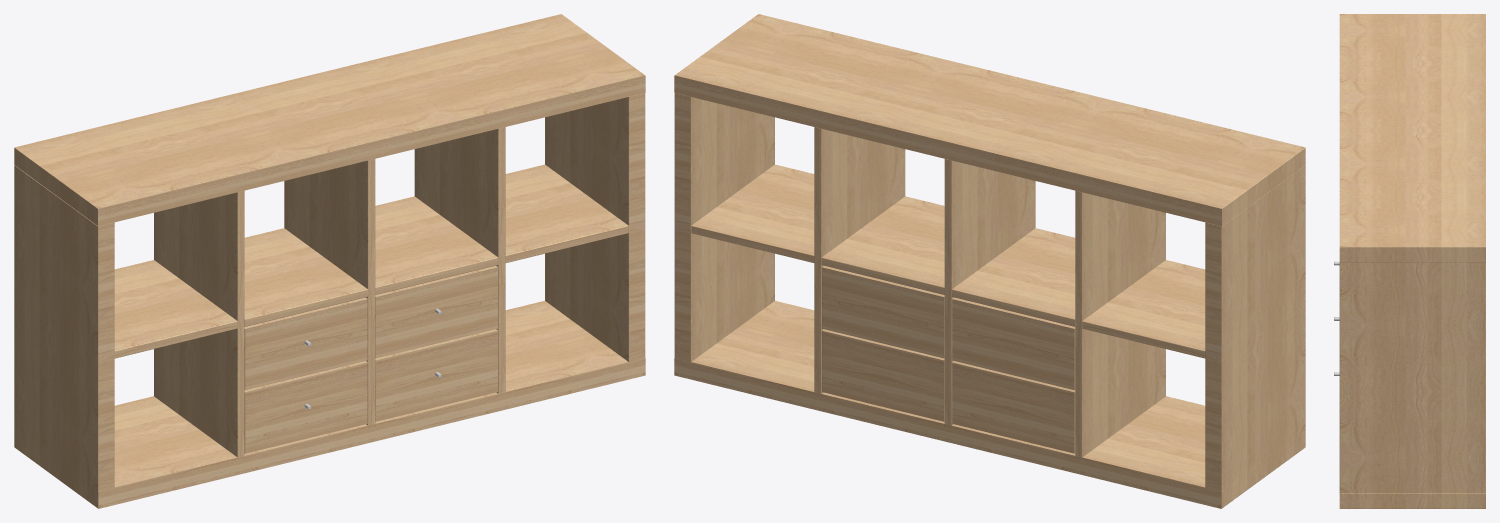
Rendered from KALLAX_Shelf_with_2_Accessories_Whitened_Oak_effect_77x147.obj.
3 renders of one model, left to right at view 1: azimuth 30°, elevation 25°; view 2: azimuth 150°, elevation 25°; view 3: azimuth 270°, elevation 25°, orthographic. The views are drawn at different scales.
Visible parts, largest first — view 1: Rectangle001, Rectangle002, Rectangle004, Rectangle003, Rectangle017, Rectangle016, Rectangle018, Rectangle006, Rectangle009, Rectangle019, Rectangle022, Rectangle005 (+3 smaller); view 2: Rectangle001, Rectangle002, Rectangle004, Rectangle003, Rectangle017, Rectangle016, Rectangle018, Rectangle006, Rectangle009, Rectangle019, Rectangle022, Rectangle005 (+3 smaller); view 3: Rectangle001, Rectangle003, Rectangle004.
Boxes of the visible parts, <box> form: Rectangle001: <box>14,14,645,226</box>; Rectangle002: <box>14,165,114,491</box>; Rectangle004: <box>14,300,645,508</box>; Rectangle003: <box>545,93,645,361</box>; Rectangle017: <box>154,190,244,457</box>; Rectangle016: <box>284,159,375,425</box>; Rectangle018: <box>414,127,505,393</box>; Rectangle006: <box>244,297,367,390</box>; Rectangle009: <box>244,361,367,453</box>; Rectangle019: <box>375,265,497,358</box>; Rectangle022: <box>375,329,497,421</box>; Rectangle005: <box>244,228,367,326</box>; Rectangle001: <box>674,14,1305,226</box>; Rectangle002: <box>1205,165,1305,491</box>; Rectangle004: <box>674,300,1305,508</box>; Rectangle003: <box>674,93,774,361</box>; Rectangle017: <box>1075,190,1165,457</box>; Rectangle016: <box>944,159,1035,425</box>; Rectangle018: <box>814,127,905,393</box>; Rectangle006: <box>952,297,1075,390</box>; Rectangle009: <box>952,361,1075,453</box>; Rectangle019: <box>822,265,944,358</box>; Rectangle022: <box>822,329,944,421</box>; Rectangle005: <box>952,228,1075,326</box>; Rectangle001: <box>1339,14,1485,262</box>; Rectangle003: <box>1339,262,1485,493</box>; Rectangle004: <box>1339,493,1485,508</box>.
Size of the model in its own units: 1471 by 770 by 405.
